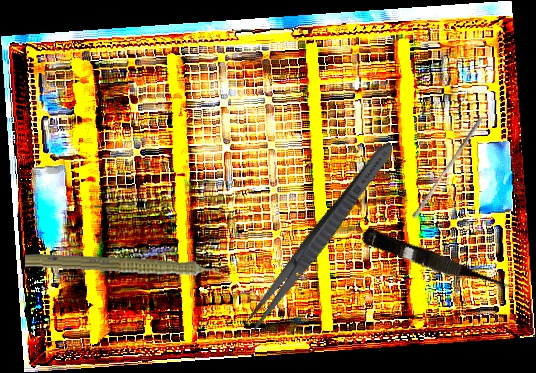Dressing Forceps: (238, 136, 400, 341)
Handpiece: (24, 249, 233, 286)
Micro Scissor: (358, 226, 516, 301)
Pusher: (411, 113, 484, 222)
